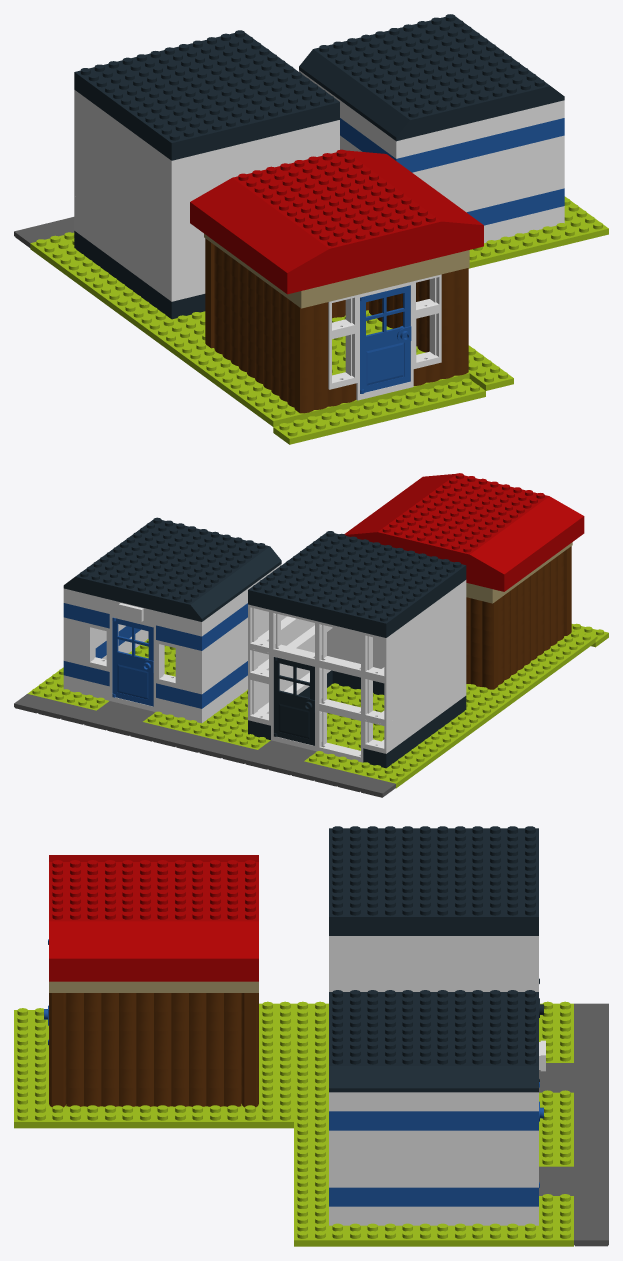
Rendered from Block4-lod0.fbx.
The picture shows the model from 3 angles, top to bottom: view 1: azimuth 30°, elevation 25°; view 2: azimuth 150°, elevation 25°; view 3: azimuth 270°, elevation 25°; orthographic projection. The views are drawn at different scales.
Visible parts, largest first — view 1: Material_26, Material_1, Material_21, Material_119, Material_192, Material_23, Material_5, Material_199; view 2: Material_1, Material_26, Material_21, Material_119, Material_192, Material_199, Material_23, Material_5; view 3: Material_26, Material_119, Material_1, Material_21, Material_192, Material_199, Material_23, Material_5.
Boxes of the visible parts, x1,y1,x2,y2 form: Material_26: (74,14,564,319); Material_1: (74,70,564,400); Material_21: (190,149,483,294); Material_119: (30,196,608,444); Material_192: (205,238,468,413); Material_23: (340,118,564,393); Material_5: (204,233,469,308); Material_199: (14,217,74,247); Material_1: (63,564,466,762); Material_26: (63,517,466,768); Material_21: (344,473,584,591); Material_119: (27,623,608,788); Material_192: (466,546,571,689); Material_199: (14,694,395,797); Material_23: (63,603,247,708); Material_5: (466,542,572,603); Material_26: (329,826,543,1092); Material_119: (14,1001,573,1246); Material_1: (329,936,545,1225); Material_21: (49,855,258,981); Material_192: (49,993,258,1107); Material_199: (539,1003,608,1246); Material_23: (44,939,543,1206); Material_5: (49,981,258,992).
Size of the model in its own units: 25.6 by 10.42 by 27.2.
